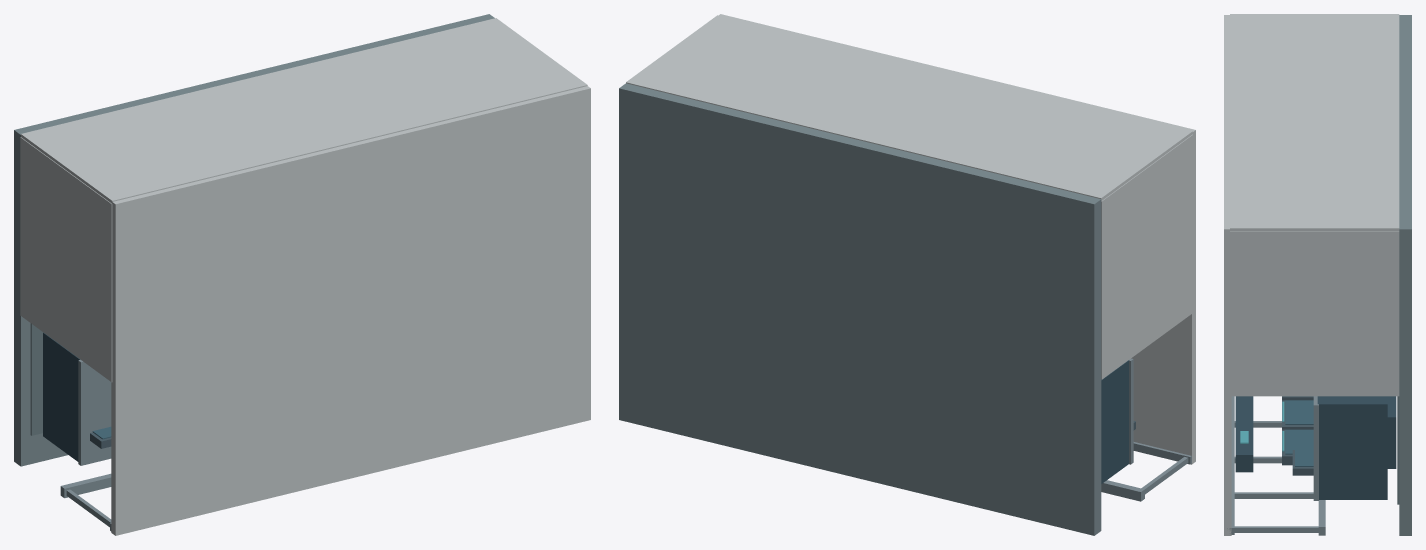
File: cabine_passadico_aeon.glb
3 renders of one model, left to right at view 1: azimuth 30°, elevation 25°; view 2: azimuth 150°, elevation 25°; view 3: azimuth 270°, elevation 25°, orthographic. The views are drawn at different scales.
Parts seen in each view (by area): view 1: ceiling, rear_bulkhead, side_bulkhead_-5.95, deck, wing_console_-4.9, wing_top_-4.9, deck_carpet, front_window_sill; view 2: deck, rear_bulkhead, side_bulkhead_-5.95, ceiling, wing_console_-4.9; view 3: rear_bulkhead, side_bulkhead_5.95, wing_console_4.9, deck, ceiling, overhead_bridge, main_console_base, screen_glass_3, screen_glass_4, wing_top_4.9, forward_mullion_5.9, front_window_header (+7 smaller).
Boxes of the visible parts, x1,y1,x2,y2 form: ceiling: (111, 86, 590, 535); rear_bulkhead: (21, 18, 587, 203); side_bulkhead_-5.95: (20, 137, 112, 382); deck: (14, 14, 494, 466); wing_console_-4.9: (43, 332, 80, 461); wing_top_-4.9: (78, 359, 111, 465); deck_carpet: (30, 323, 43, 435); front_window_sill: (60, 473, 111, 498); deck: (619, 83, 1101, 535); rear_bulkhead: (626, 15, 1192, 200); side_bulkhead_-5.95: (1101, 134, 1193, 379); ceiling: (719, 14, 1195, 464); wing_console_-4.9: (1101, 360, 1128, 483); rear_bulkhead: (1230, 14, 1399, 231); side_bulkhead_5.95: (1230, 231, 1399, 396); wing_console_4.9: (1317, 396, 1387, 499); deck: (1399, 15, 1411, 535); ceiling: (1224, 15, 1231, 535); overhead_bridge: (1235, 396, 1253, 472); main_console_base: (1387, 396, 1396, 468); screen_glass_3: (1285, 400, 1313, 424); screen_glass_4: (1285, 429, 1313, 454); wing_top_4.9: (1313, 396, 1318, 500); forward_mullion_5.9: (1234, 526, 1318, 532); front_window_header: (1227, 396, 1234, 534).
Size of the model in its own units: 12.03 by 8.03 by 4.44.
